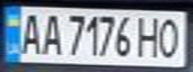1: (81, 11, 100, 56)
6: (112, 12, 139, 59)
7: (63, 11, 84, 56), (97, 12, 118, 56)
A: (15, 10, 45, 56), (39, 10, 63, 56)
H: (136, 12, 163, 59)
O: (157, 15, 184, 58)
